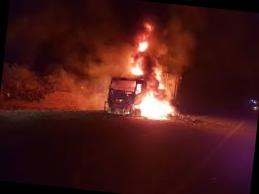Fire: (119, 74, 183, 121)
Smoke: (70, 8, 192, 81)
